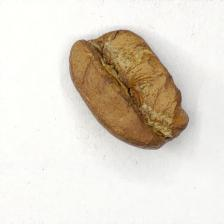NG: (79, 30, 176, 141)
